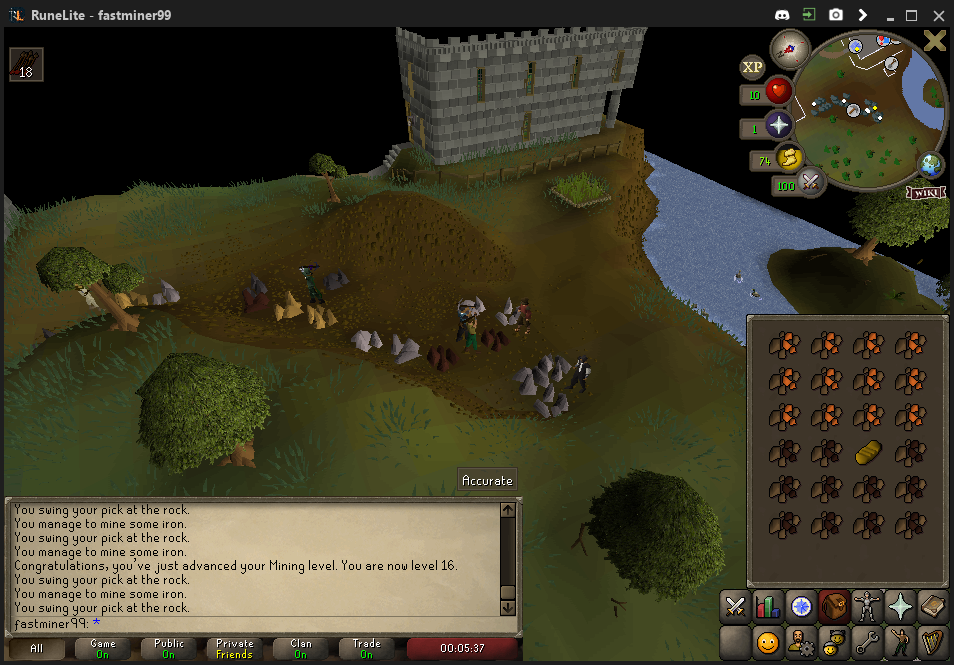depleted: (240, 275, 271, 298), (322, 270, 352, 292)
ore: (478, 325, 514, 353), (235, 290, 272, 314), (427, 344, 458, 371)
